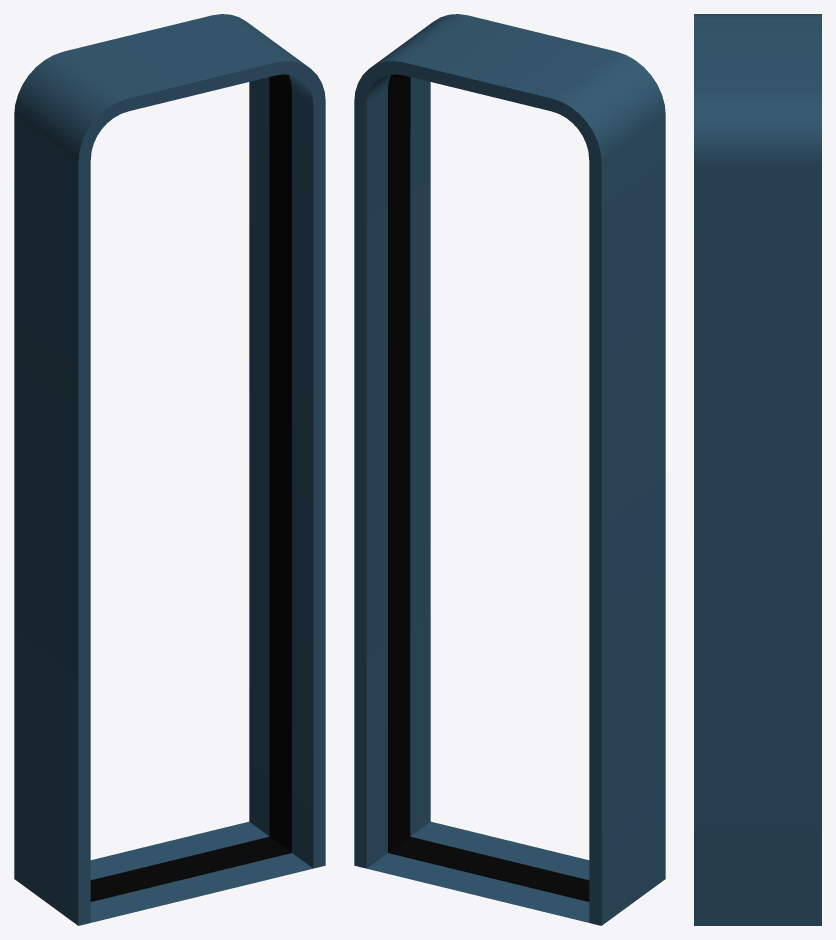
The model's file is door_single.glb.
3 renders of one model, left to right at view 1: azimuth 30°, elevation 25°; view 2: azimuth 150°, elevation 25°; view 3: azimuth 270°, elevation 25°, orthographic.
Visible parts, largest first — view 1: SingleDoorFrame, SingleDoorInside; view 2: SingleDoorFrame, SingleDoorInside; view 3: SingleDoorFrame.
Boxes of the visible parts, left/top/right/bottom form: SingleDoorFrame: left=14, top=14, right=325, bottom=925; SingleDoorInside: left=90, top=74, right=291, bottom=901; SingleDoorFrame: left=354, top=14, right=665, bottom=925; SingleDoorInside: left=388, top=74, right=589, bottom=901; SingleDoorFrame: left=694, top=14, right=821, bottom=925.
Bounding box in the file's own units: 1.5 × 4.73 × 0.675.
